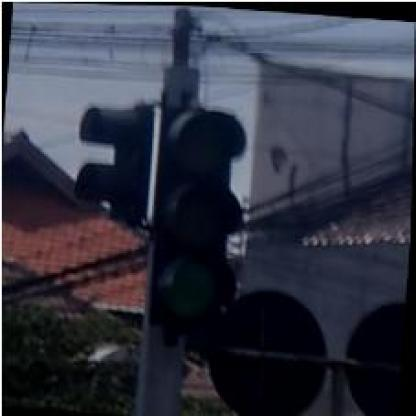green: (145, 103, 251, 330)
